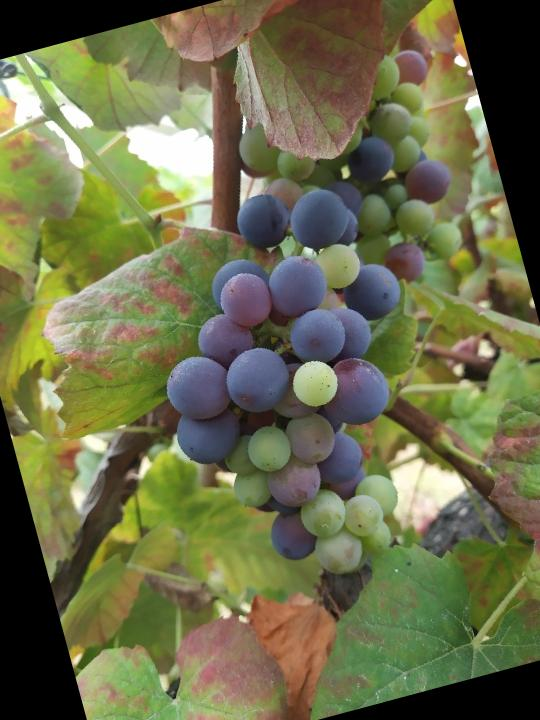grape: (117, 162, 473, 611)
